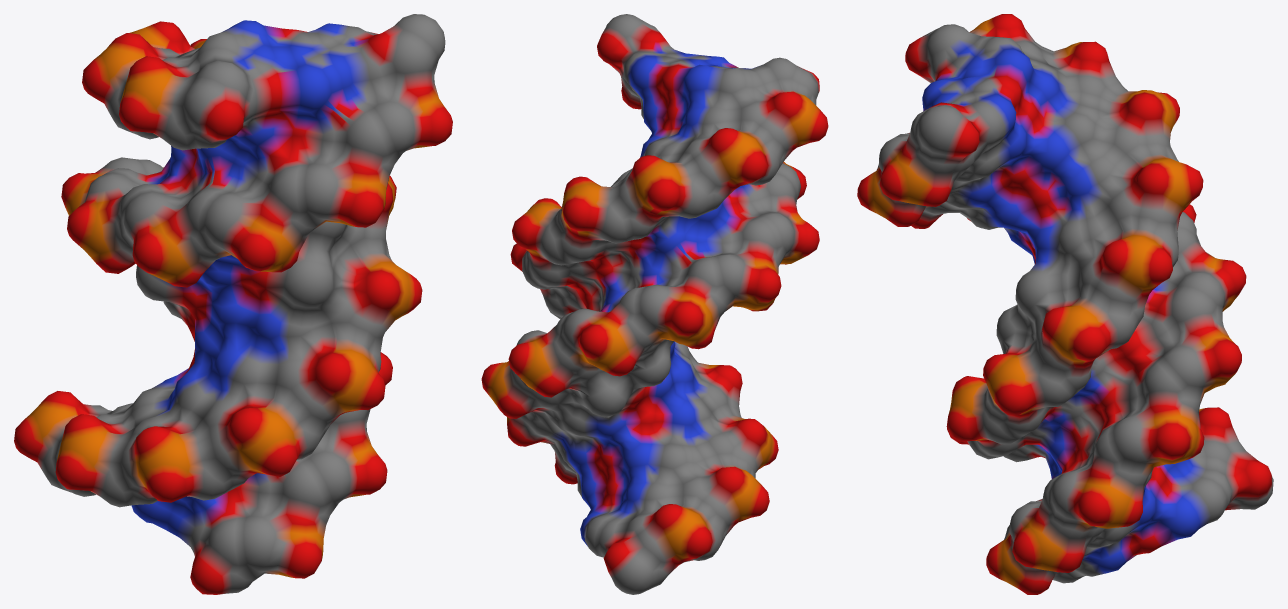
The model's file is DNA-Surface_ColorByAA.dae.
3 renders of one model, left to right at view 1: azimuth 30°, elevation 25°; view 2: azimuth 150°, elevation 25°; view 3: azimuth 270°, elevation 25°, orthographic. The views are drawn at different scales.
Visible parts, largest first — view 1: subnode_0; view 2: subnode_0; view 3: subnode_0.
Boxes of the visible parts, <box> form: subnode_0: <box>14,14,452,594</box>; subnode_0: <box>481,14,828,594</box>; subnode_0: <box>857,14,1273,594</box>.
Size of the model in its own units: 24.8 by 42.57 by 30.42.
